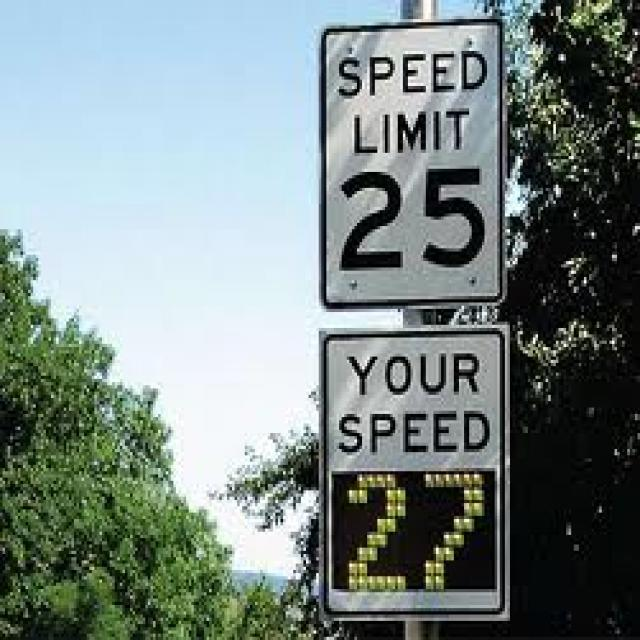regulatory: (321, 333, 510, 622), (316, 20, 504, 310)
